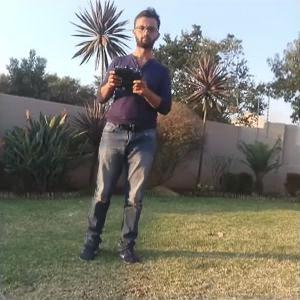follow: (73, 2, 175, 266)
